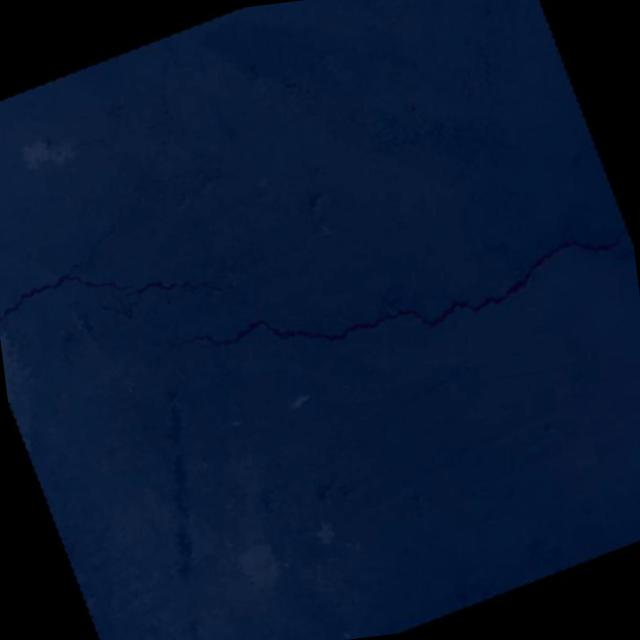crack: (151, 166, 640, 424), (0, 28, 271, 385)
